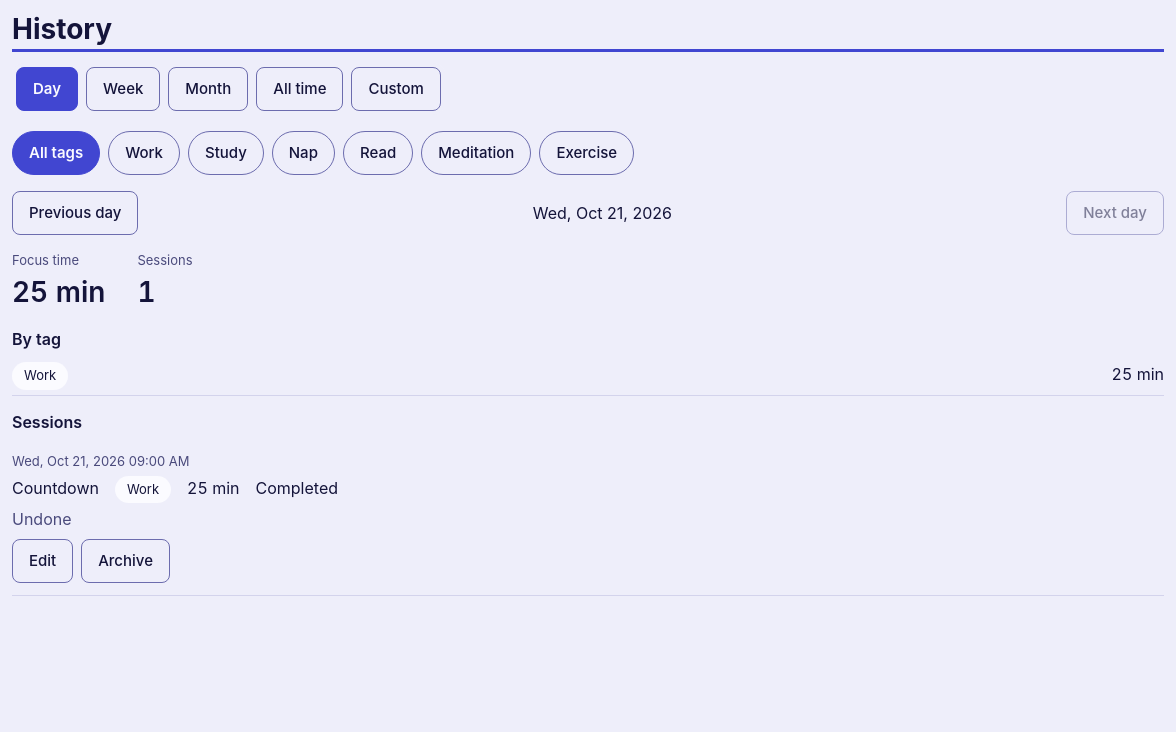
Test: a session restored on another device (#228) › keeps a session live when Undo ran while a reconcile was loading the Archive list
The image size is (1176, 732).
Check: the text "Undone" is shown, box [12, 509, 72, 529]
Click the button "Archive".
click(126, 561)  # box [81, 539, 170, 583]
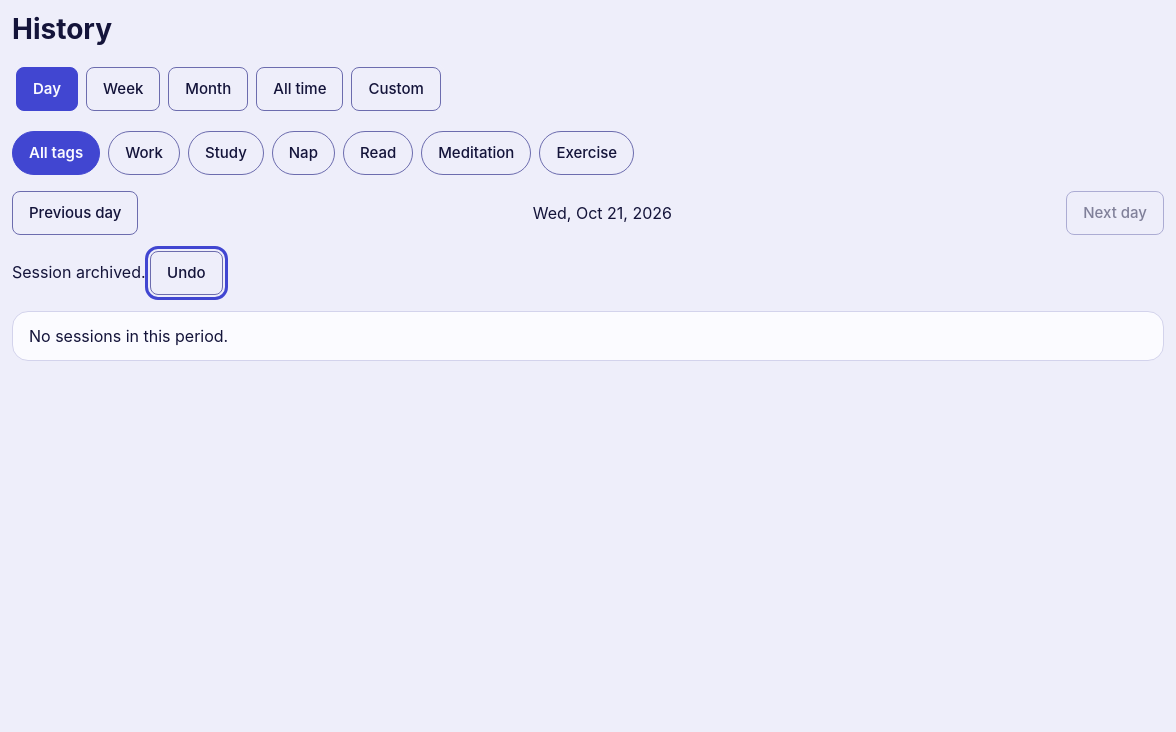
Click the button "Undo".
click(186, 273)  # box [150, 251, 222, 295]
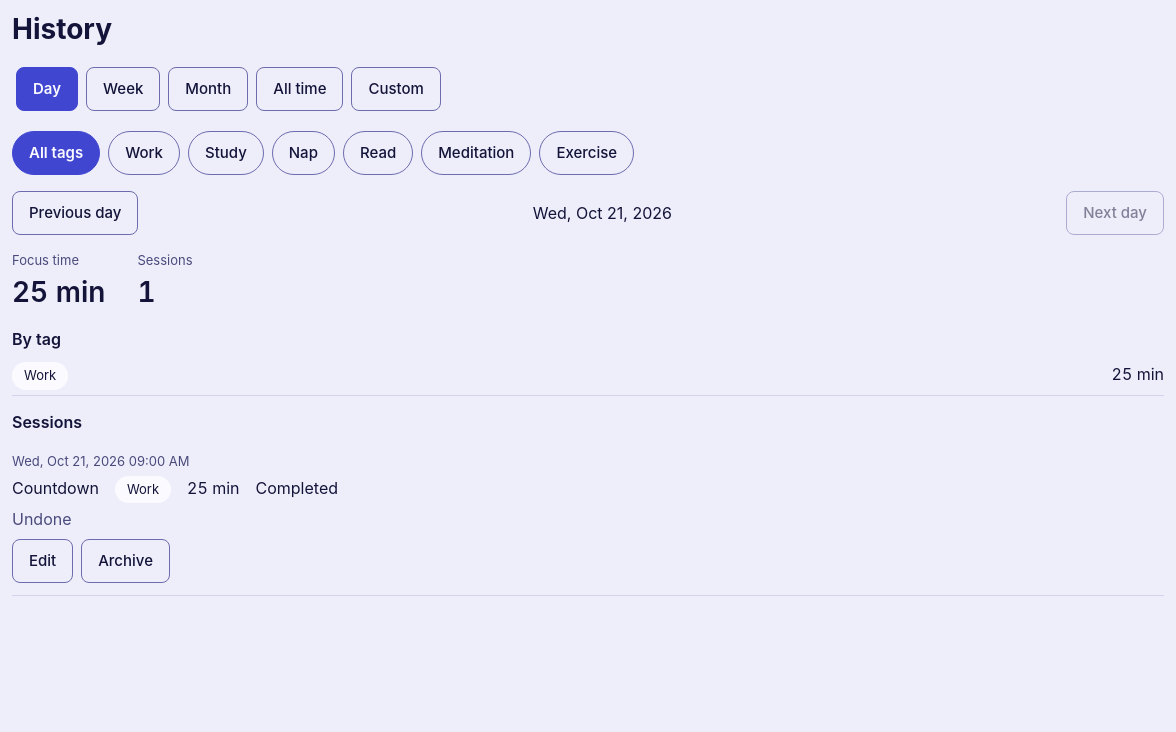
Check: the text "Session archived" is gone
